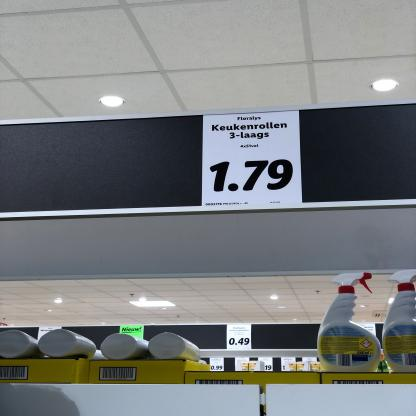prtg: (203, 111, 304, 207)
